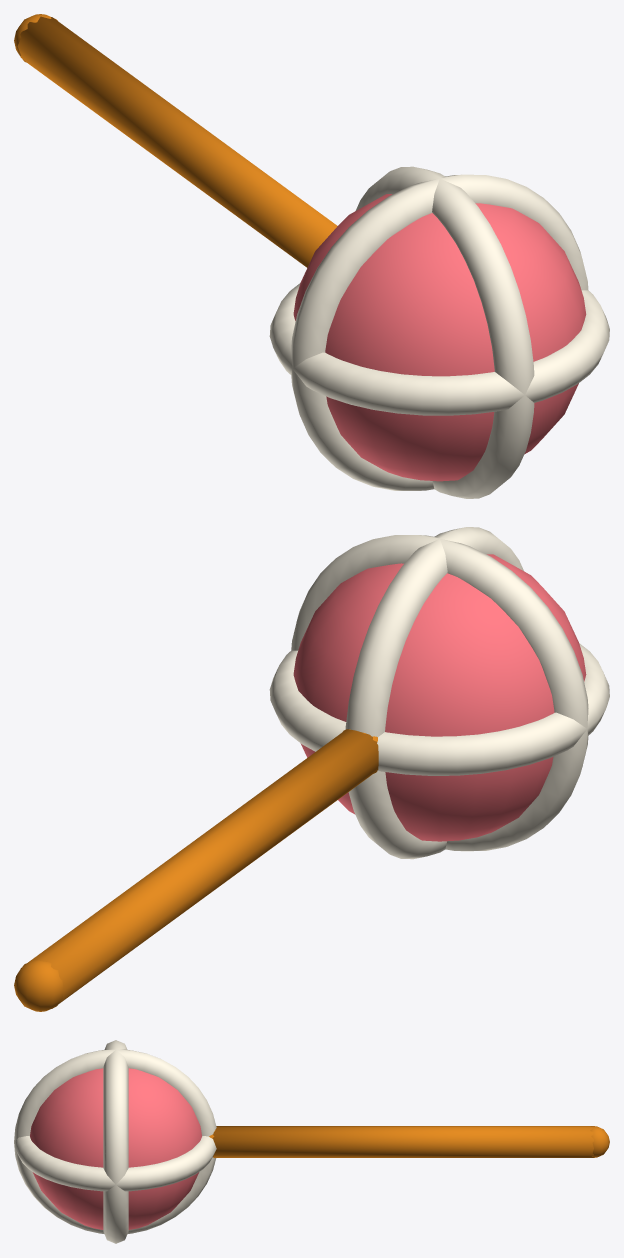
The model's file is PlayTunnelMoving_Premium.fbx.
3 views of the same model, one above another, from view 1: azimuth 30°, elevation 25°; view 2: azimuth 150°, elevation 25°; view 3: azimuth 270°, elevation 25° (orthographic). The views are drawn at different scales.
Visible parts, largest first — view 1: PlayTunnel_Moving; view 2: PlayTunnel_Moving; view 3: PlayTunnel_Moving.
Boxes of the visible parts, left/top/right/bottom form: PlayTunnel_Moving: left=14, top=14, right=609, bottom=498; PlayTunnel_Moving: left=14, top=527, right=609, bottom=1011; PlayTunnel_Moving: left=14, top=1040, right=609, bottom=1243.
Bounding box in the file's own units: 0.0632 × 0.0632 × 0.1846.
